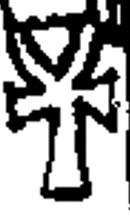Ankh: (3, 14, 122, 208)
